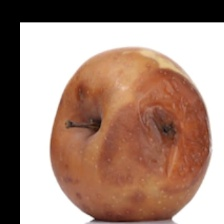apple: (31, 54, 219, 197)
